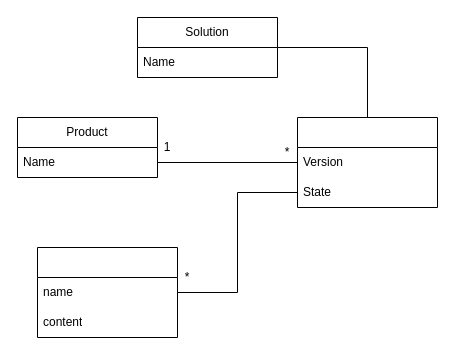
The diagram is 455 pixels wide and 355 high, and some of its shapes have lost their labels. The shapes that lost their labels are listed below. From the top down, each one's box as (x1, y1, x2, y2) in pixels, then its label:
(296, 116, 438, 208): Release
(36, 246, 178, 338): Documentation
